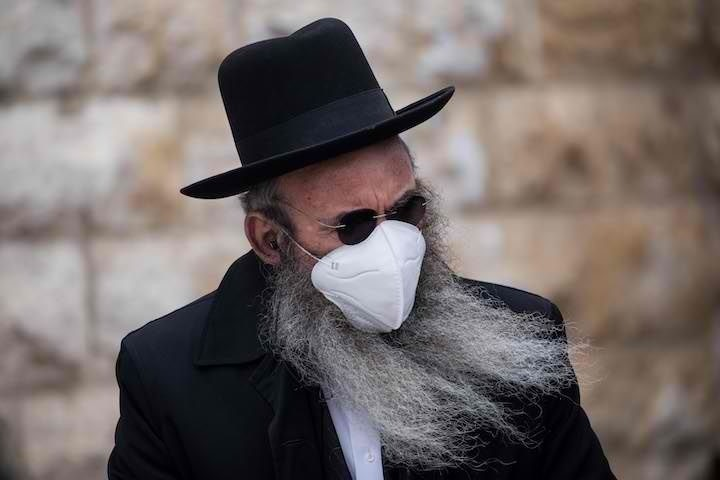face_with_mask: (245, 142, 431, 338)
